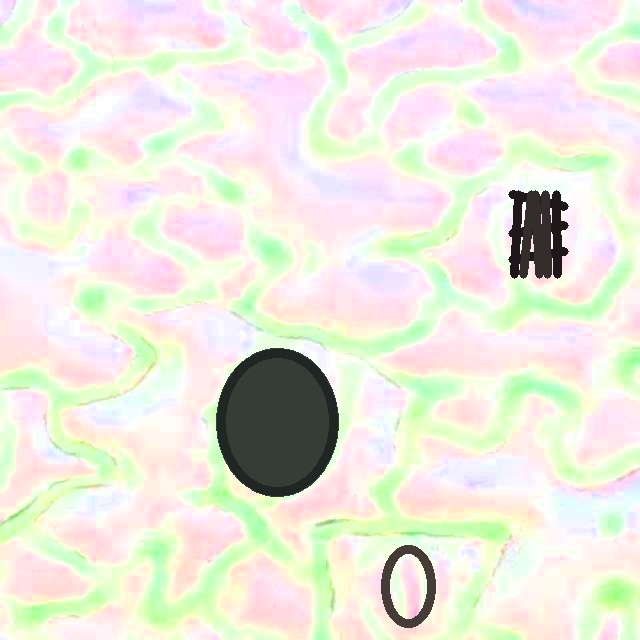open: (216, 348, 338, 496), (508, 190, 568, 278), (380, 544, 436, 628)
